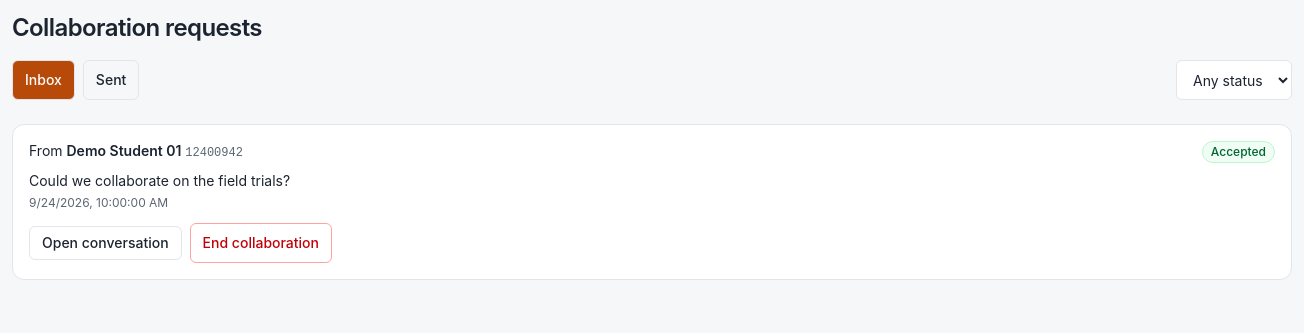
Test case: CollaborationsPage › surfaces the reason the server refused
Click the button "End collaboration": (261, 243) [190,223,332,263]
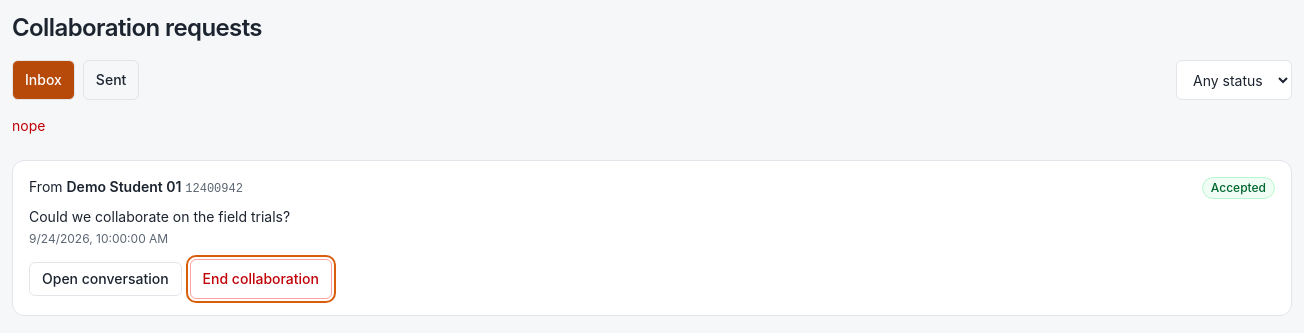
Now the message "nope" is shown, box [12,117,45,134]
